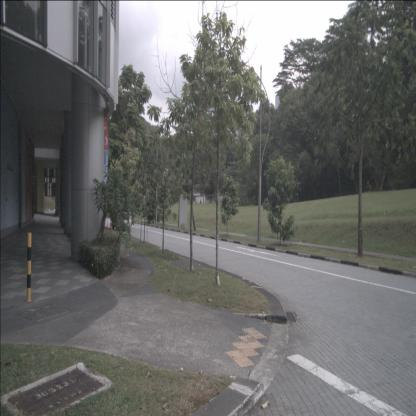vehicle-car: (111, 206, 132, 230)
